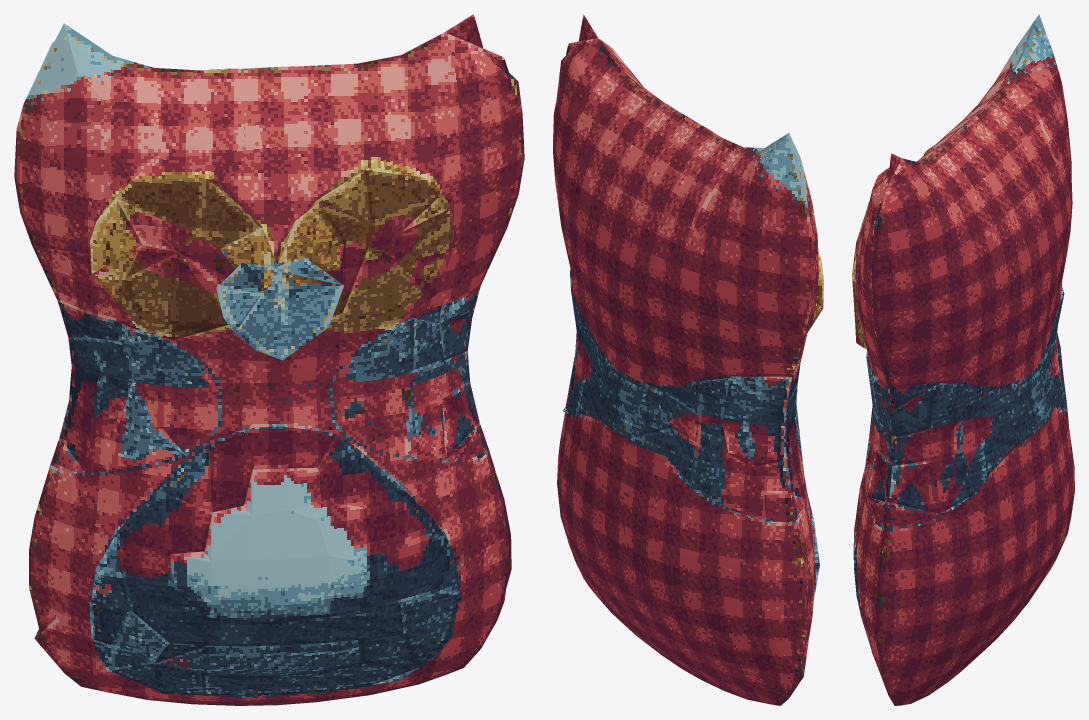
File: owl.glb
3 renders of one model, left to right at view 1: azimuth 30°, elevation 25°; view 2: azimuth 150°, elevation 25°; view 3: azimuth 270°, elevation 25°, orthographic. The views are drawn at different scales.
Visible parts, largest first — view 1: model_m; view 2: model_m; view 3: model_m.
Part boxes in pixels (x1,y1,x2,y2): model_m: (14, 14, 524, 705); model_m: (553, 14, 823, 705); model_m: (852, 14, 1074, 705).
Bounding box in the file's own units: 23.18 × 38 × 13.08.
Materials: 1 (1 with a texture image).
